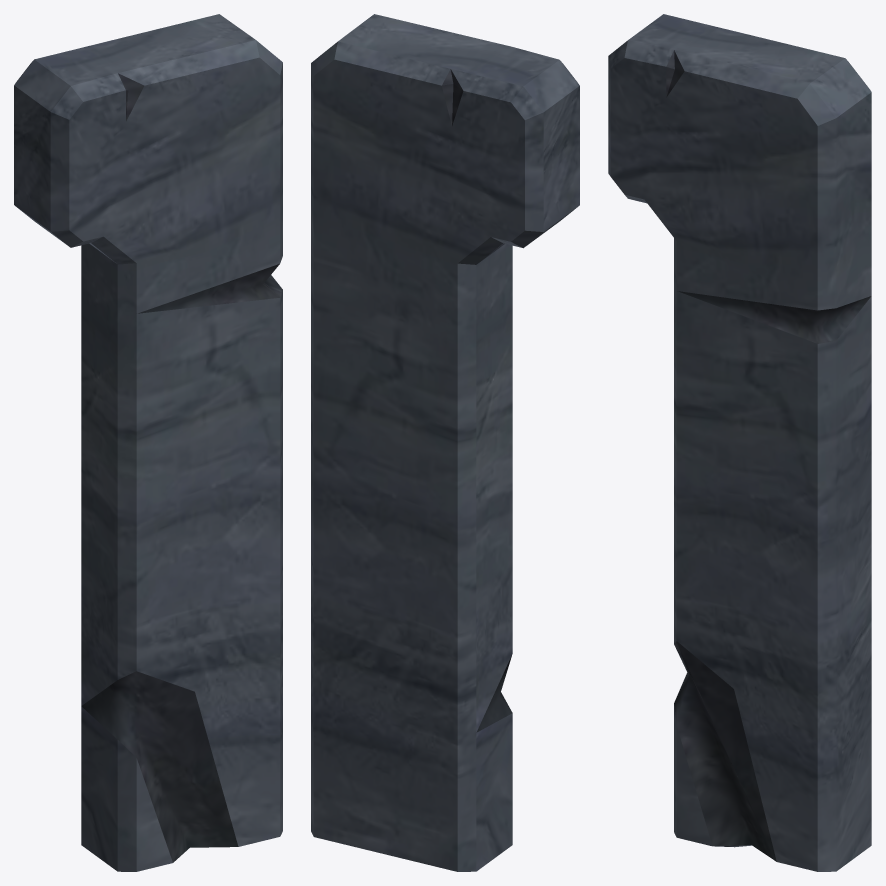
Rendered from pm-stand-column-01.glb.
The picture shows the model from 3 angles, left to right: view 1: azimuth 30°, elevation 25°; view 2: azimuth 150°, elevation 25°; view 3: azimuth 330°, elevation 25°; orthographic projection. The views are drawn at different scales.
Parts seen in each view (by area): view 1: StandColumn01; view 2: StandColumn01; view 3: StandColumn01.
Boxes of the visible parts, x1=… form: StandColumn01: x1=14, y1=14, x2=282, y2=871; StandColumn01: x1=311, y1=14, x2=579, y2=871; StandColumn01: x1=608, y1=14, x2=871, y2=871.
Size of what is drawn, in the model's own units: 2.51 by 8.24 by 0.9872.
Materials: 1 (1 with a texture image).
